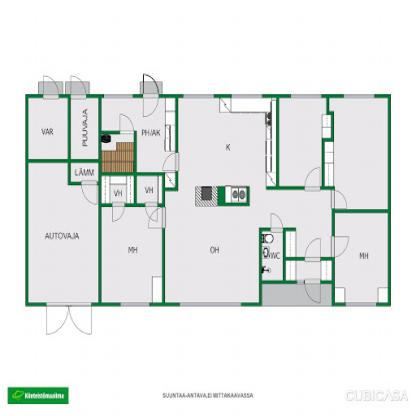door: (46, 302, 92, 337), (142, 74, 160, 119), (79, 179, 99, 209), (41, 75, 61, 104), (143, 206, 166, 231), (69, 74, 88, 103), (302, 168, 323, 192), (303, 278, 323, 303), (329, 235, 349, 258), (304, 236, 322, 261), (330, 188, 348, 209), (269, 212, 284, 236), (111, 202, 127, 224), (162, 153, 180, 172), (119, 113, 134, 135), (144, 200, 157, 221)
window: (178, 302, 242, 309), (183, 91, 214, 101), (291, 92, 322, 101), (103, 92, 133, 100), (231, 93, 262, 100), (346, 301, 376, 308), (120, 301, 148, 308), (344, 94, 375, 100)
zone: (167, 97, 332, 302), (28, 163, 98, 302), (328, 97, 388, 209), (102, 207, 162, 302), (101, 98, 175, 171), (279, 98, 332, 186), (335, 213, 386, 302), (29, 98, 67, 158), (71, 99, 98, 159), (101, 132, 134, 171), (265, 286, 331, 303), (261, 230, 283, 279), (102, 176, 134, 204), (287, 261, 329, 279), (137, 175, 162, 204), (71, 162, 98, 182)
